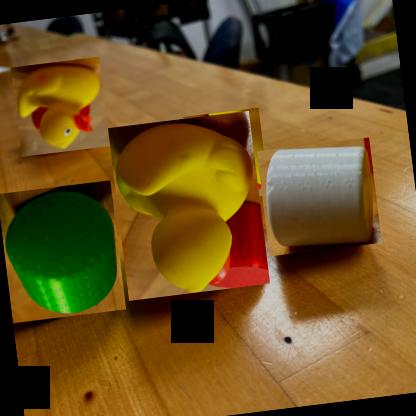duck: (108, 110, 270, 300), (10, 56, 110, 156)
green cylinder: (0, 179, 125, 322)
red cylinder: (183, 107, 268, 204)
white cylinder: (257, 137, 382, 256)
